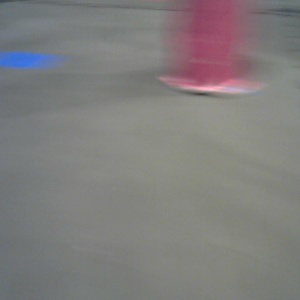Right: (159, 1, 258, 94)
